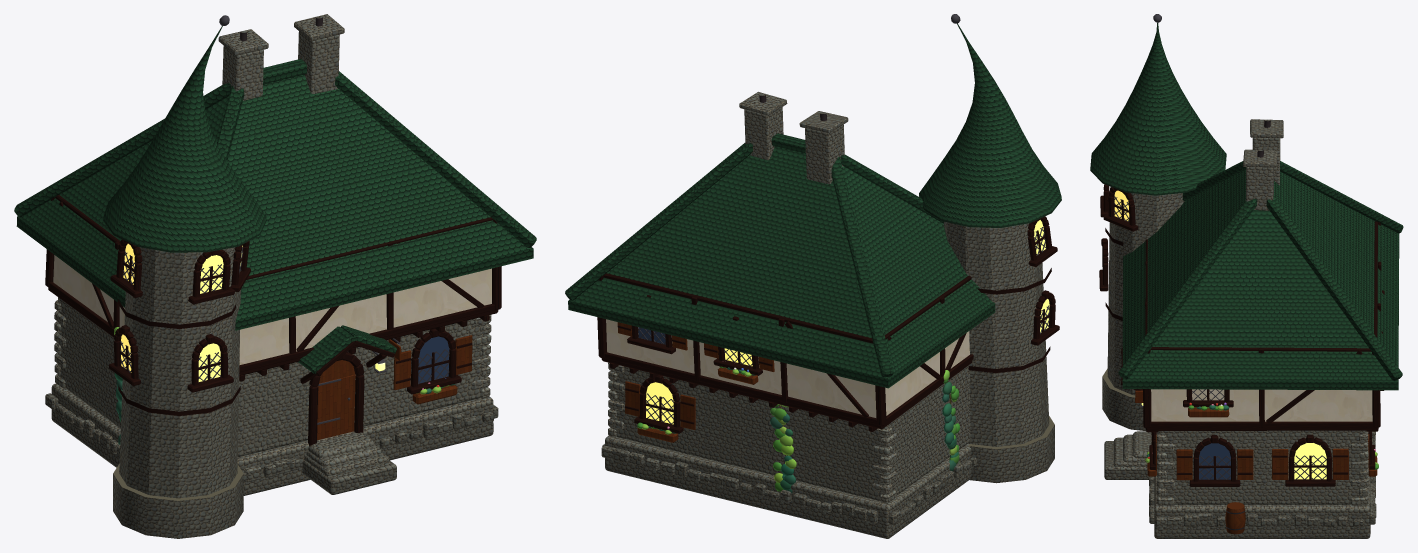
File: fantasy_tavern.gltf
The picture shows the model from 3 angles, left to right: view 1: azimuth 30°, elevation 25°; view 2: azimuth 150°, elevation 25°; view 3: azimuth 270°, elevation 25°; orthographic projection. The views are drawn at different scales.
Parts seen in each view (by area): view 1: fantasy_tavern_roof_LOD0, fantasy_tavern_base_LOD0, fantasy_tavern_trim_LOD0, fantasy_tavern_wall_LOD0, fantasy_tavern_door_LOD0, fantasy_tavern_metal_LOD0, fantasy_tavern_glow_FFB65A_LOD0, fantasy_tavern_glass_LOD0; view 2: fantasy_tavern_roof_LOD0, fantasy_tavern_base_LOD0, fantasy_tavern_trim_LOD0, fantasy_tavern_wall_LOD0, fantasy_tavern_flora_LOD0, fantasy_tavern_door_LOD0, fantasy_tavern_glow_FFB65A_LOD0, fantasy_tavern_metal_LOD0; view 3: fantasy_tavern_roof_LOD0, fantasy_tavern_base_LOD0, fantasy_tavern_trim_LOD0, fantasy_tavern_wall_LOD0, fantasy_tavern_door_LOD0, fantasy_tavern_glow_FFB65A_LOD0, fantasy_tavern_metal_LOD0, fantasy_tavern_glass_LOD0.
Part boxes in pixels (left/top/right/bottom): fantasy_tavern_roof_LOD0: left=14, top=26, right=536, bottom=373; fantasy_tavern_base_LOD0: left=45, top=14, right=498, bottom=538; fantasy_tavern_trim_LOD0: left=45, top=195, right=501, bottom=445; fantasy_tavern_wall_LOD0: left=53, top=255, right=491, bottom=364; fantasy_tavern_door_LOD0: left=317, top=335, right=472, bottom=440; fantasy_tavern_metal_LOD0: left=120, top=15, right=449, bottom=424; fantasy_tavern_glow_FFB65A_LOD0: left=121, top=243, right=242, bottom=381; fantasy_tavern_glass_LOD0: left=418, top=336, right=449, bottom=383; fantasy_tavern_roof_LOD0: left=565, top=23, right=1061, bottom=388; fantasy_tavern_base_LOD0: left=601, top=91, right=1054, bottom=538; fantasy_tavern_trim_LOD0: left=597, top=216, right=1059, bottom=433; fantasy_tavern_wall_LOD0: left=606, top=319, right=969, bottom=417; fantasy_tavern_flora_LOD0: left=637, top=366, right=959, bottom=493; fantasy_tavern_door_LOD0: left=617, top=322, right=774, bottom=442; fantasy_tavern_glow_FFB65A_LOD0: left=646, top=220, right=1049, bottom=424; fantasy_tavern_metal_LOD0: left=638, top=14, right=1049, bottom=424; fantasy_tavern_roof_LOD0: left=1090, top=22, right=1403, bottom=390; fantasy_tavern_base_LOD0: left=1102, top=119, right=1376, bottom=538; fantasy_tavern_trim_LOD0: left=1099, top=184, right=1384, bottom=486; fantasy_tavern_wall_LOD0: left=1151, top=389, right=1372, bottom=421; fantasy_tavern_door_LOD0: left=1135, top=390, right=1377, bottom=534; fantasy_tavern_glow_FFB65A_LOD0: left=1114, top=190, right=1326, bottom=479; fantasy_tavern_metal_LOD0: left=1114, top=14, right=1326, bottom=530; fantasy_tavern_glass_LOD0: left=1199, top=443, right=1230, bottom=479.
Size of what is drawn, in the model's own units: 13.68 by 15.62 by 10.7.
Materials: 10 (5 with a texture image).
